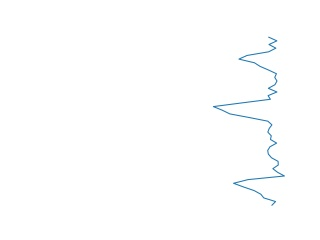underwaterNaturalLevee: (210, 35, 287, 211)
